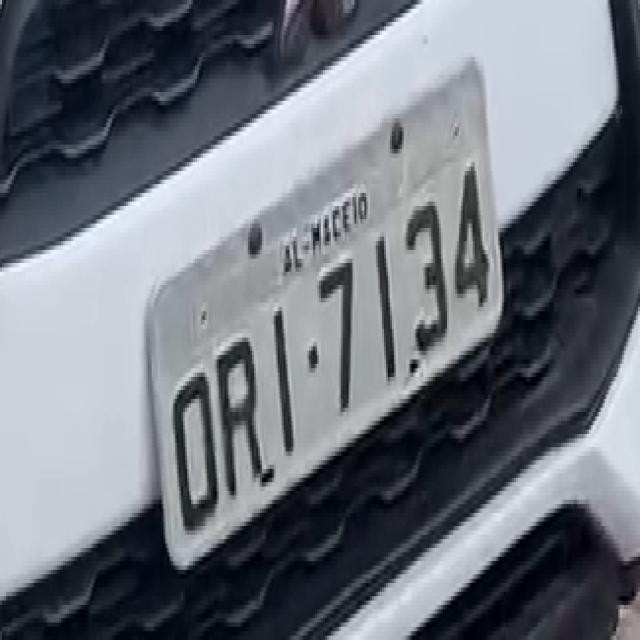Placa_mercosul_carro: (156, 68, 496, 547)
